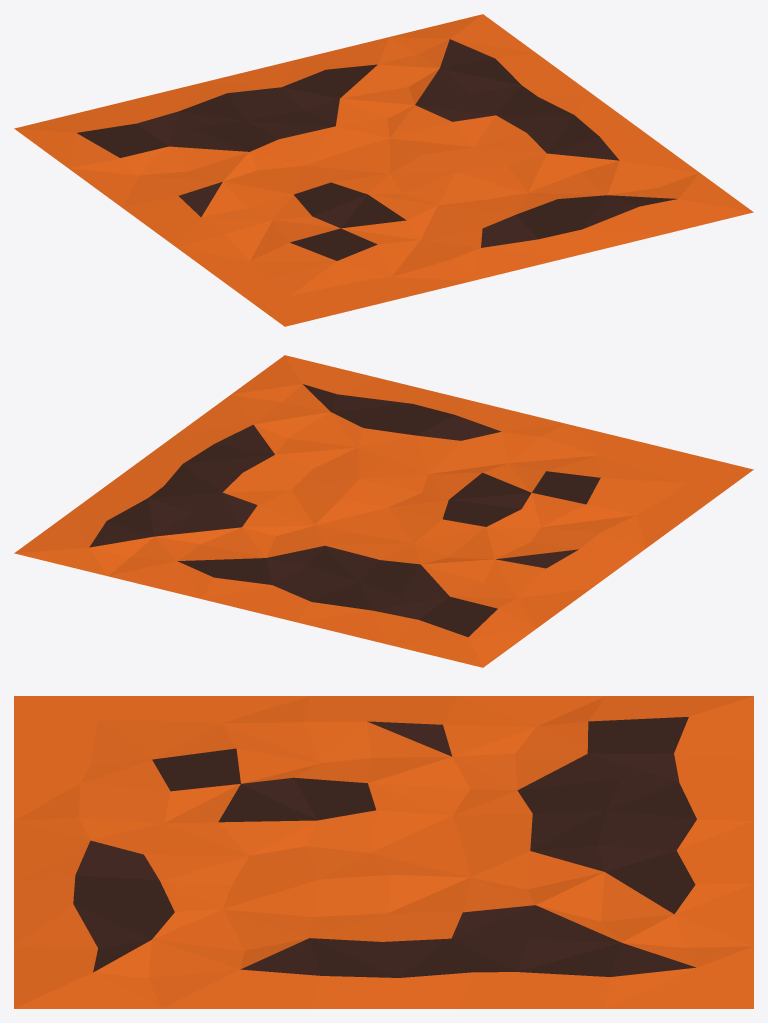
The model's file is ground_lava_c.obj.
The picture shows the model from 3 angles, top to bottom: view 1: azimuth 30°, elevation 25°; view 2: azimuth 150°, elevation 25°; view 3: azimuth 270°, elevation 25°; orthographic projection. The views are drawn at different scales.
Size of the model in its own units: 4 by 0.03 by 4.
